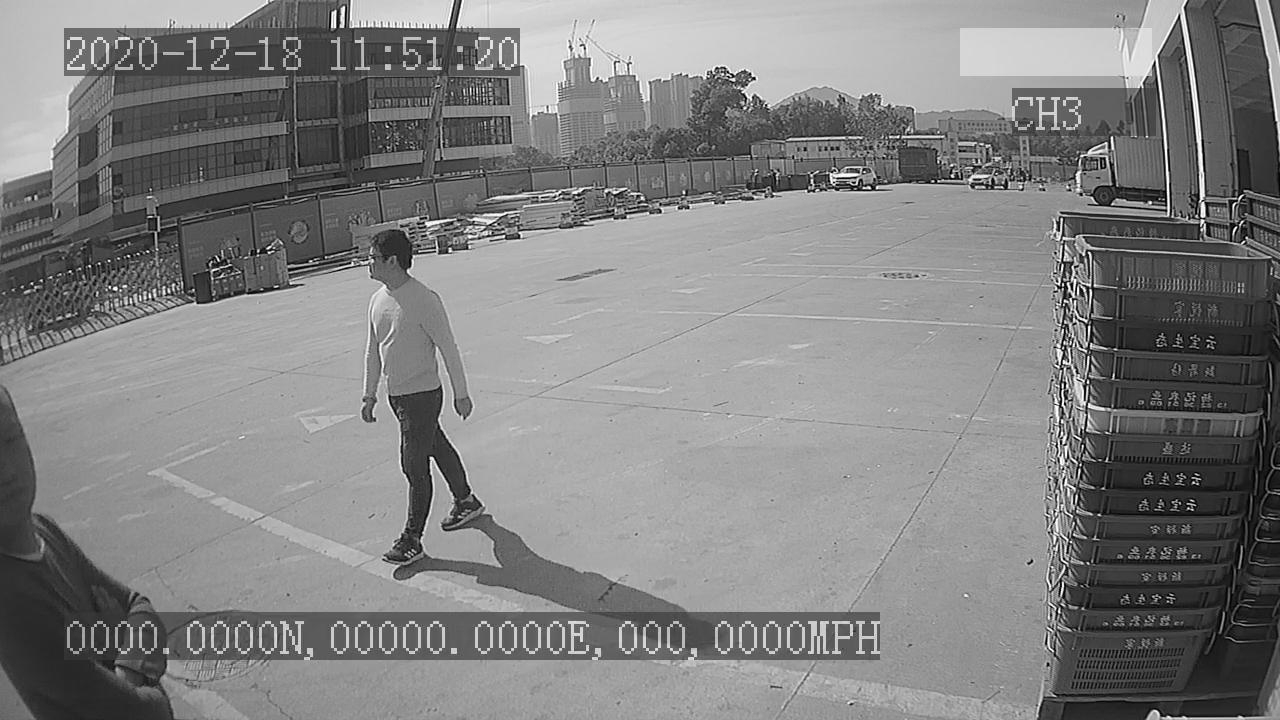person: (358, 227, 490, 570)
